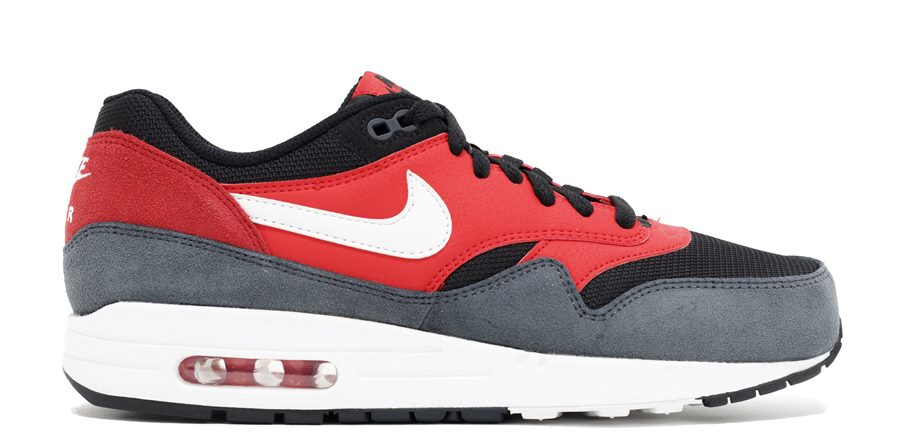nike: (226, 171, 456, 262)
